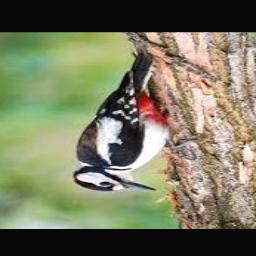Woodpecker: (73, 51, 170, 191)
